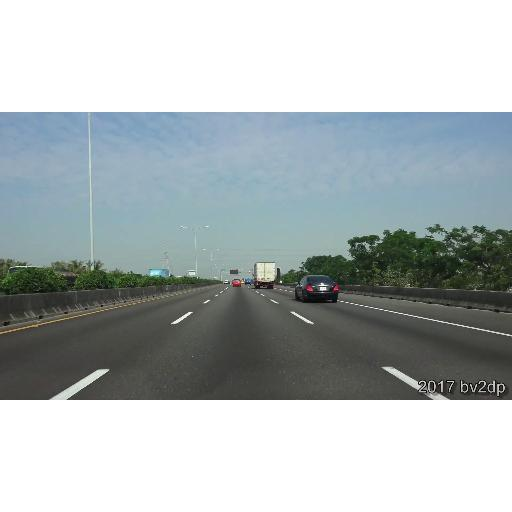Car: (295, 275, 339, 303), (253, 263, 275, 290), (233, 279, 241, 287), (245, 279, 251, 285), (224, 281, 228, 285)
